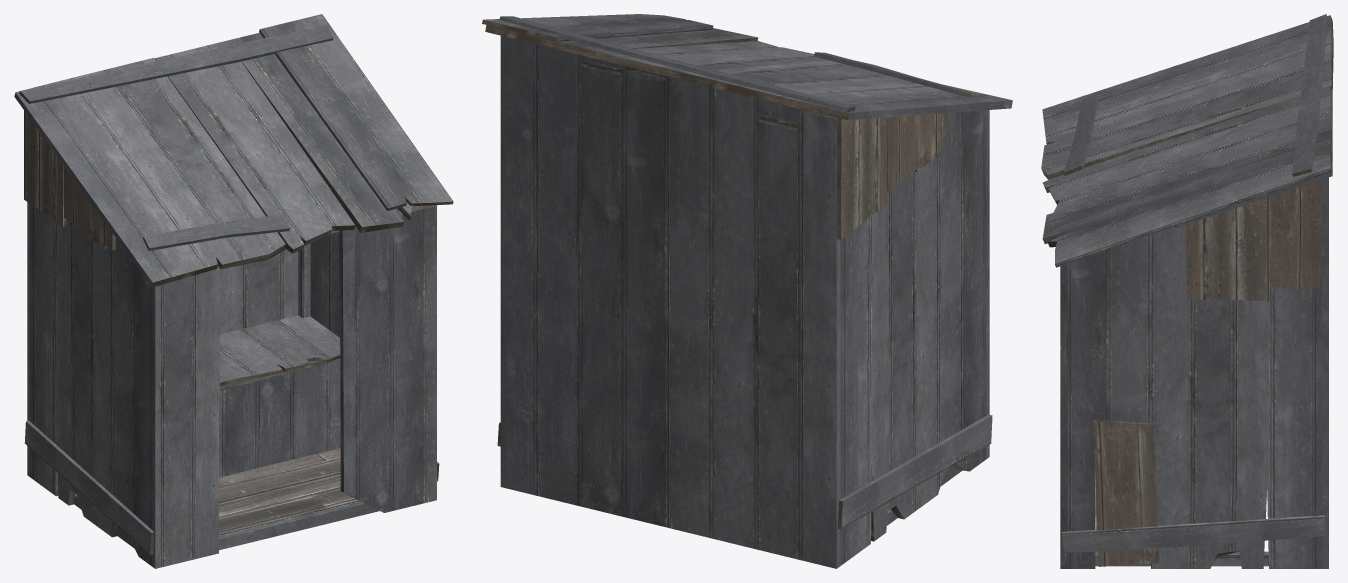
The model's file is Building_LinjgdJz005_lod1.glb.
3 renders of one model, left to right at view 1: azimuth 30°, elevation 25°; view 2: azimuth 150°, elevation 25°; view 3: azimuth 270°, elevation 25°, orthographic. The views are drawn at different scales.
Parts seen in each view (by area): view 1: bmsl_linjgd_jz005_lod1; view 2: bmsl_linjgd_jz005_lod1; view 3: bmsl_linjgd_jz005_lod1.
Boxes of the visible parts, bbox=[...] form: bmsl_linjgd_jz005_lod1: bbox=[14, 14, 453, 568]; bmsl_linjgd_jz005_lod1: bbox=[482, 14, 1012, 568]; bmsl_linjgd_jz005_lod1: bbox=[1041, 14, 1333, 568].
Bounding box in the file's own units: 3.12 × 3.78 × 2.46.
1 material, 1 textured.
